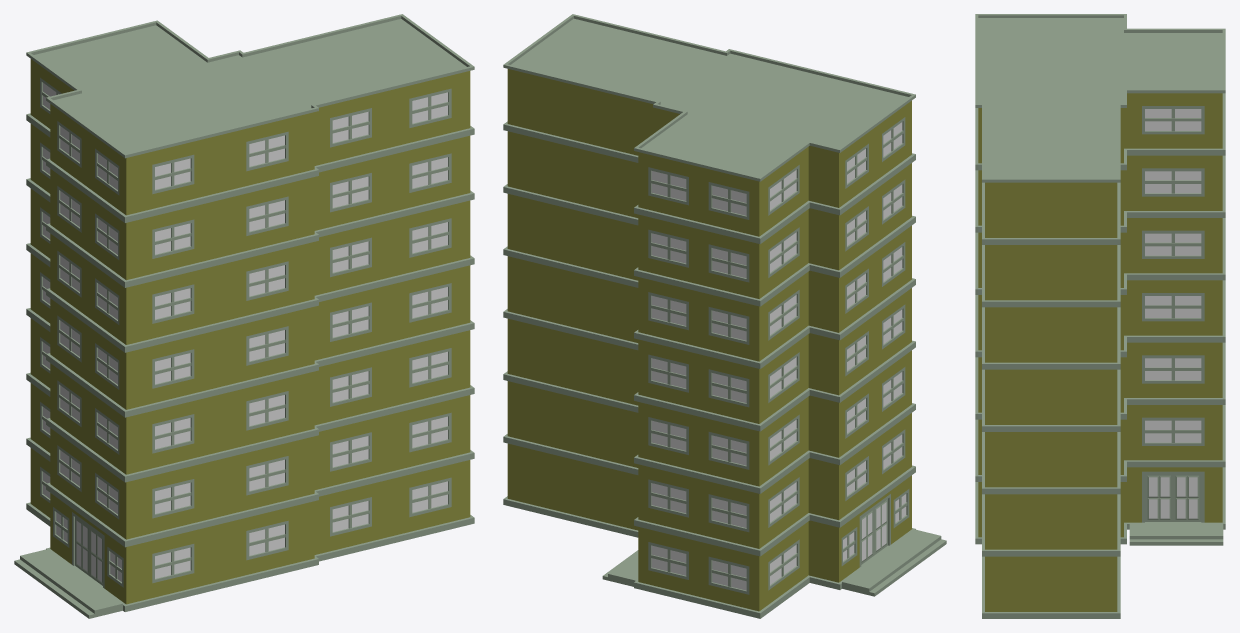
Rendered from Large apartment 3.fbx.
3 renders of one model, left to right at view 1: azimuth 30°, elevation 25°; view 2: azimuth 150°, elevation 25°; view 3: azimuth 270°, elevation 25°, orthographic. The views are drawn at different scales.
Parts seen in each view (by area): view 1: building_001; view 2: building_001; view 3: building_001.
Boxes of the visible parts, bbox=[...] form: building_001: bbox=[14, 14, 474, 618]; building_001: bbox=[503, 14, 946, 618]; building_001: bbox=[975, 14, 1225, 618].
Bounding box in the file's own units: 1374 × 1550 × 801.
